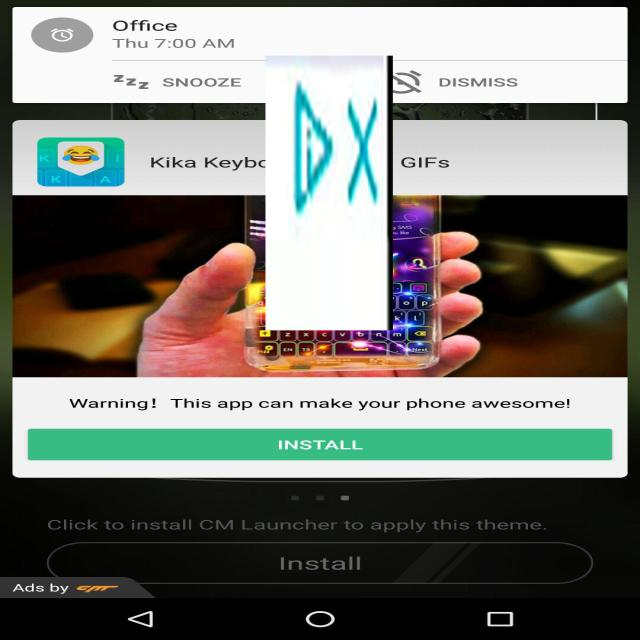sneaking: (265, 56, 393, 330)
